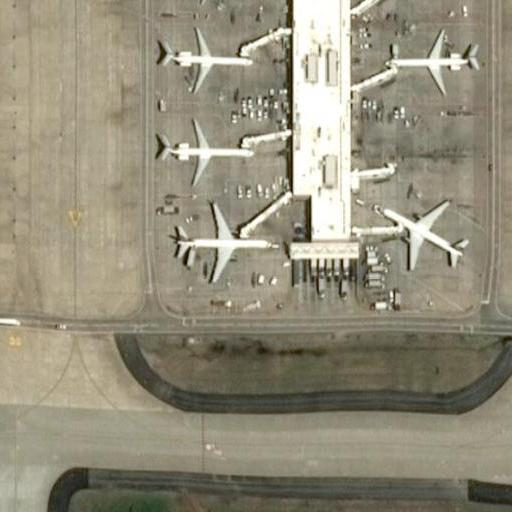Aircraft: (171, 194, 273, 283), (379, 18, 483, 92), (375, 193, 472, 271), (153, 21, 256, 90), (152, 111, 251, 181), (160, 0, 260, 4)
